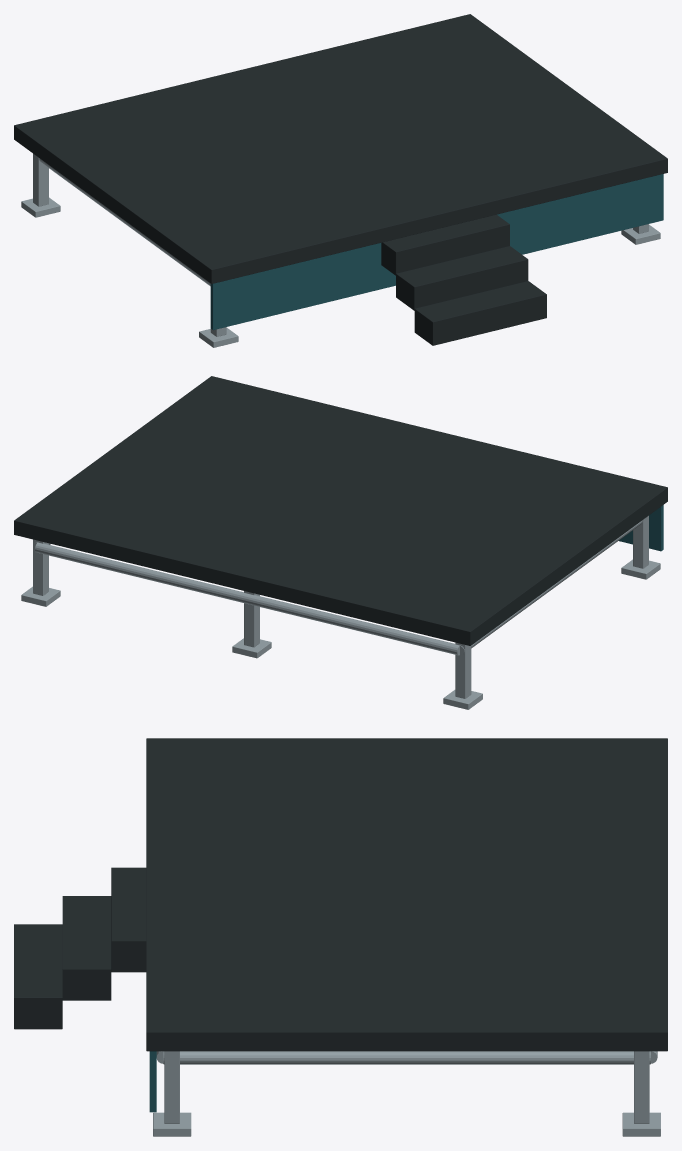
The model's file is outdoor-stage.glb.
3 renders of one model, top to bottom at view 1: azimuth 30°, elevation 25°; view 2: azimuth 150°, elevation 25°; view 3: azimuth 270°, elevation 25°, orthographic. The views are drawn at different scales.
Parts seen in each view (by area): view 1: Modular_Deck, Front_Fascia, Stair_Tread, Stair_Tread.001, Stair_Tread.002, Support.001, Side_Truss; view 2: Modular_Deck, Long_Truss.001, Support.001, Front_Fascia, Support, Support.005, Support.003, Side_Truss; view 3: Modular_Deck, Side_Truss.001, Stair_Tread.001, Stair_Tread, Stair_Tread.002, Support.004, Support.005, Foot.004, Foot.005.
Boxes of the visible parts, x1,y1,x2,y2 form: Modular_Deck: (14,14,667,283); Front_Fascia: (210,174,663,330); Stair_Tread: (414,281,546,345); Stair_Tread.001: (396,246,528,310); Stair_Tread.002: (381,214,509,275); Support.001: (33,153,48,206); Side_Truss: (39,158,210,286); Modular_Deck: (14,376,667,645); Long_Truss.001: (35,542,459,655); Support.001: (455,642,471,698); Front_Fascia: (619,505,663,551); Support: (633,515,648,568); Support.005: (33,539,48,595); Support.003: (244,591,259,647); Side_Truss: (460,520,642,655); Modular_Deck: (146,738,667,1051); Side_Truss.001: (163,1051,650,1064); Stair_Tread.001: (62,896,111,1000); Stair_Tread: (14,924,62,1029); Stair_Tread.002: (111,867,146,972); Support.004: (164,1051,179,1123); Support.005: (634,1051,649,1123); Foot.004: (153,1112,191,1136); Foot.005: (622,1112,660,1136).
Bounding box in the file's own units: 4 × 0.68 × 3.76.
